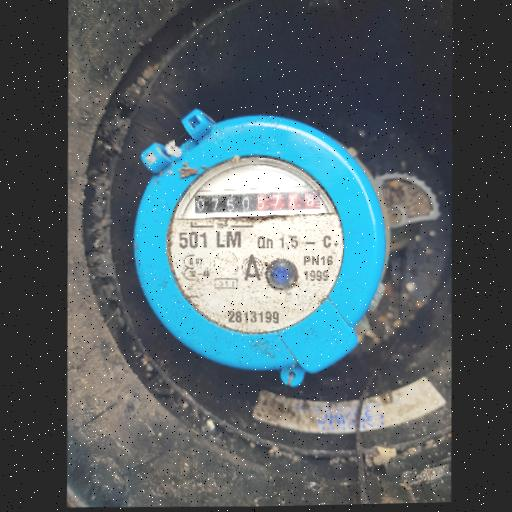0: (239, 193, 253, 212), (195, 195, 207, 214)
4: (285, 190, 301, 210)
5: (223, 194, 237, 213), (254, 193, 268, 212)
7: (269, 191, 283, 212), (209, 195, 221, 212)
8: (303, 191, 317, 209)
border_water_meter_number: (189, 183, 323, 221)
